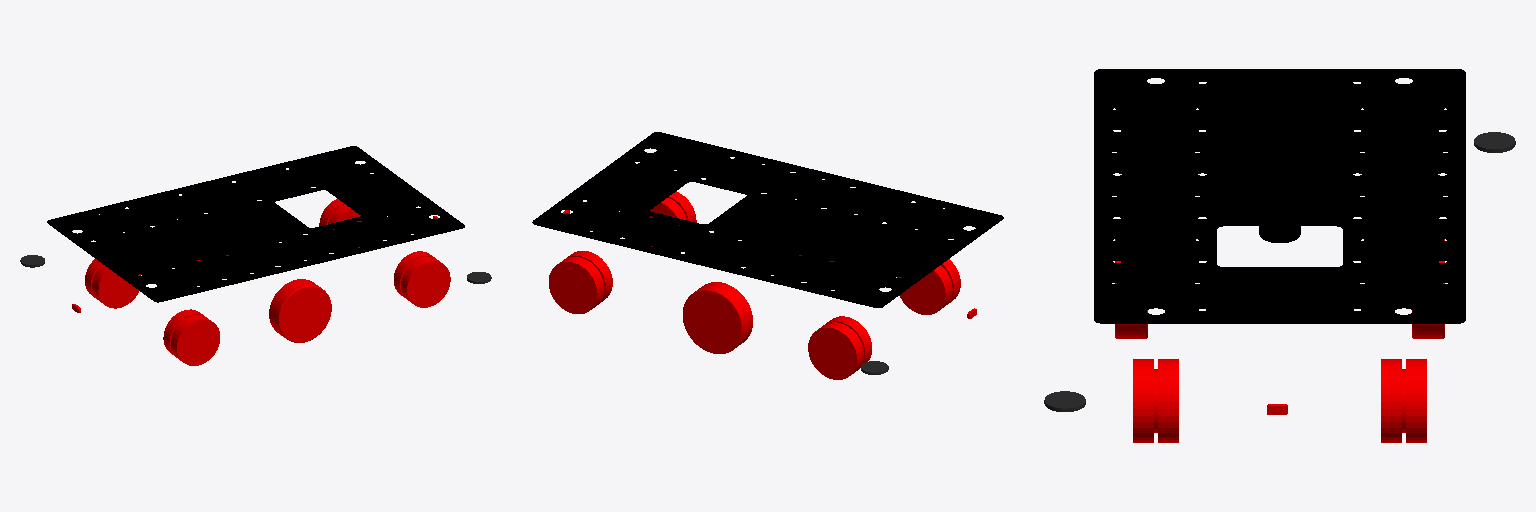
URDF robot description (first_amr_rover):
<?xml version="1.0" encoding="utf-8"?>
<!-- This URDF was automatically created by SolidWorks to URDF Exporter! Originally created by Stephen Brawner (brawner@gmail.com) 
     Commit Version: 1.6.0-4-g7f85cfe  Build Version: 1.6.7995.38578
     For more information, please see http://wiki.ros.org/sw_urdf_exporter -->
<robot
  name="first_amr_rover">
  <link
    name="base_link">
    <inertial>
      <origin
        xyz="-0.012052 -0.00050488 0.19209"
        rpy="0 0 0" />
      <mass
        value="450" />
      <inertia
        ixx="30.383"
        ixy="0.028587"
        ixz="0.26132"
        iyy="69.029"
        iyz="0.00034937"
        izz="94.499" />
    </inertial>
    <visual>
      <origin
        xyz="0 0 0"
        rpy="0 0 0" />
      <geometry>
        <mesh
          filename="package://first_amr_rover/meshes/base_link.STL" />
      </geometry>
      <material
        name="">
        <color
          rgba="0.25098 0.25098 0.25098 1" />
      </material>
    </visual>
    <collision>
      <origin
        xyz="0 0 0"
        rpy="0 0 0" />
      <geometry>
        <mesh
          filename="package://first_amr_rover/meshes/base_link.STL" />
      </geometry>
    </collision>
  </link>
  <link
    name="left_wheel_link">
    <inertial>
      <origin
        xyz="-3.9517E-15 -0.595 -1.5266E-16"
        rpy="0 0 0" />
      <mass
        value="30.589" />
      <inertia
        ixx="0.1356"
        ixy="7.1855E-16"
        ixz="-1.9228E-31"
        iyy="0.23866"
        iyz="3.2793E-32"
        izz="0.1356" />
    </inertial>
    <visual>
      <origin
        xyz="0 0 0"
        rpy="0 0 0" />
      <geometry>
        <mesh
          filename="package://first_amr_rover/meshes/left_wheel_link.STL" />
      </geometry>
      <material
        name="">
        <color
          rgba="1 0 0 1" />
      </material>
    </visual>
    <collision>
      <origin
        xyz="0 0 0"
        rpy="0 0 0" />
      <geometry>
        <mesh
          filename="package://first_amr_rover/meshes/left_wheel_link.STL" />
      </geometry>
    </collision>
  </link>
  <joint
    name="left_wheel_joint"
    type="continuous">
    <origin
      xyz="0 0.2355 0.13"
      rpy="0 0 0" />
    <parent
      link="base_link" />
    <child
      link="left_wheel_link" />
    <axis
      xyz="0 1 0" />
    <limit
      effort="300"
      velocity="10" />
    <dynamics
      damping="0.5"
      friction="0.05" />
  </joint>
  <link
    name="right_wheel_link">
    <inertial>
      <origin
        xyz="-1.5023E-15 0.124 -1.5266E-16"
        rpy="0 0 0" />
      <mass
        value="30.589" />
      <inertia
        ixx="0.1356"
        ixy="5.6286E-18"
        ixz="-1.9228E-31"
        iyy="0.23866"
        iyz="-3.2449E-32"
        izz="0.1356" />
    </inertial>
    <visual>
      <origin
        xyz="0 0 0"
        rpy="0 0 0" />
      <geometry>
        <mesh
          filename="package://first_amr_rover/meshes/right_wheel_link.STL" />
      </geometry>
      <material
        name="">
        <color
          rgba="1 0 0 1" />
      </material>
    </visual>
    <collision>
      <origin
        xyz="0 0 0"
        rpy="0 0 0" />
      <geometry>
        <mesh
          filename="package://first_amr_rover/meshes/right_wheel_link.STL" />
      </geometry>
    </collision>
  </link>
  <joint
    name="right_wheel_joint"
    type="continuous">
    <origin
      xyz="0 0.2355 0.13"
      rpy="0 0 0" />
    <parent
      link="base_link" />
    <child
      link="right_wheel_link" />
    <axis
      xyz="0 1 0" />
    <limit
      effort="300"
      velocity="10" />
    <dynamics
      damping="0.5"
      friction="0.05" />
  </joint>
  <link
    name="front_left_support_wheel_link">
    <inertial>
      <origin
        xyz="-3.7748E-15 -0.53601 -3.5527E-15"
        rpy="0 0 0" />
      <mass
        value="26.733" />
      <inertia
        ixx="0.095433"
        ixy="2.6598E-16"
        ixz="-3.7979E-34"
        iyy="0.13477"
        iyz="1.5077E-34"
        izz="0.095433" />
    </inertial>
    <visual>
      <origin
        xyz="0 0 0"
        rpy="0 0 0" />
      <geometry>
        <mesh
          filename="package://first_amr_rover/meshes/front_left_support_wheel_link.STL" />
      </geometry>
      <material
        name="">
        <color
          rgba="1 0 0 1" />
      </material>
    </visual>
    <collision>
      <origin
        xyz="0 0 0"
        rpy="0 0 0" />
      <geometry>
        <mesh
          filename="package://first_amr_rover/meshes/front_left_support_wheel_link.STL" />
      </geometry>
    </collision>
  </link>
  <joint
    name="front_left_support_wheel_joint"
    type="continuous">
    <origin
      xyz="0.60236 0.2355 0.10662"
      rpy="0 0 0" />
    <parent
      link="base_link" />
    <child
      link="front_left_support_wheel_link" />
    <axis
      xyz="0 1 0" />
    <limit
      effort="0.1"
      velocity="15" />
    <dynamics
      damping="0.1"
      friction="0.01" />
  </joint>
  <link
    name="back_left_support_wheel_link">
    <inertial>
      <origin
        xyz="-3.6637E-15 -0.55321 2.4147E-15"
        rpy="0 0 0" />
      <mass
        value="26.733" />
      <inertia
        ixx="0.095433"
        ixy="2.7533E-16"
        ixz="-3.7979E-34"
        iyy="0.13477"
        iyz="1.5077E-34"
        izz="0.095433" />
    </inertial>
    <visual>
      <origin
        xyz="0 0 0"
        rpy="0 0 0" />
      <geometry>
        <mesh
          filename="package://first_amr_rover/meshes/back_left_support_wheel_link.STL" />
      </geometry>
      <material
        name="">
        <color
          rgba="1 0 0 1" />
      </material>
    </visual>
    <collision>
      <origin
        xyz="0 0 0"
        rpy="0 0 0" />
      <geometry>
        <mesh
          filename="package://first_amr_rover/meshes/back_left_support_wheel_link.STL" />
      </geometry>
    </collision>
  </link>
  <joint
    name="back_left_support_wheel_joint"
    type="continuous">
    <origin
      xyz="-0.48261 0.2355 0.1066"
      rpy="0 0 0" />
    <parent
      link="base_link" />
    <child
      link="back_left_support_wheel_link" />
    <axis
      xyz="0 1 0" />
    <limit
      effort="0.1"
      velocity="15" />
    <dynamics
      damping="0.1"
      friction="0.01" />
  </joint>
  <link
    name="front_right_support_wheel_link">
    <inertial>
      <origin
        xyz="-1.7764E-15 0.065 -3.525E-15"
        rpy="0 0 0" />
      <mass
        value="26.733" />
      <inertia
        ixx="0.095433"
        ixy="1.1792E-17"
        ixz="-3.7979E-34"
        iyy="0.13477"
        iyz="1.5077E-34"
        izz="0.095433" />
    </inertial>
    <visual>
      <origin
        xyz="0 0 0"
        rpy="0 0 0" />
      <geometry>
        <mesh
          filename="package://first_amr_rover/meshes/front_right_support_wheel_link.STL" />
      </geometry>
      <material
        name="">
        <color
          rgba="1 0 0 1" />
      </material>
    </visual>
    <collision>
      <origin
        xyz="0 0 0"
        rpy="0 0 0" />
      <geometry>
        <mesh
          filename="package://first_amr_rover/meshes/front_right_support_wheel_link.STL" />
      </geometry>
    </collision>
  </link>
  <joint
    name="front_right_support_wheel_joint"
    type="continuous">
    <origin
      xyz="0.60236 0.2355 0.10662"
      rpy="0 0 0" />
    <parent
      link="base_link" />
    <child
      link="front_right_support_wheel_link" />
    <axis
      xyz="0 1 0" />
    <limit
      effort="0.1"
      velocity="15" />
    <dynamics
      damping="0.1"
      friction="0.01" />
  </joint>
  <link
    name="back_right_support_wheel_link">
    <inertial>
      <origin
        xyz="-1.6098E-15 0.0822 2.4147E-15"
        rpy="0 0 0" />
      <mass
        value="26.733" />
      <inertia
        ixx="0.095433"
        ixy="2.4636E-18"
        ixz="-3.7979E-34"
        iyy="0.13477"
        iyz="1.5077E-34"
        izz="0.095433" />
    </inertial>
    <visual>
      <origin
        xyz="0 0 0"
        rpy="0 0 0" />
      <geometry>
        <mesh
          filename="package://first_amr_rover/meshes/back_right_support_wheel_link.STL" />
      </geometry>
      <material
        name="">
        <color
          rgba="1 0 0 1" />
      </material>
    </visual>
    <collision>
      <origin
        xyz="0 0 0"
        rpy="0 0 0" />
      <geometry>
        <mesh
          filename="package://first_amr_rover/meshes/back_right_support_wheel_link.STL" />
      </geometry>
    </collision>
  </link>
  <joint
    name="back_right_support_wheel_joint"
    type="continuous">
    <origin
      xyz="-0.48261 0.2355 0.1066"
      rpy="0 0 0" />
    <parent
      link="base_link" />
    <child
      link="back_right_support_wheel_link" />
    <axis
      xyz="0 1 0" />
    <limit
      effort="0.1"
      velocity="15" />
    <dynamics
      damping="0.1"
      friction="0.01" />
  </joint>
  <link
    name="lift_surface_link">
    <inertial>
      <origin
        xyz="-0.01558 -2.3302E-09 0.070184"
        rpy="0 0 0" />
      <mass
        value="14.131" />
      <inertia
        ixx="0.94413"
        ixy="2.9059E-07"
        ixz="0.0006529"
        iyy="2.3879"
        iyz="-1.1896E-11"
        izz="3.3269" />
    </inertial>
    <visual>
      <origin
        xyz="0 0 0"
        rpy="0 0 0" />
      <geometry>
        <mesh
          filename="package://first_amr_rover/meshes/lift_surface_link.STL" />
      </geometry>
      <material
        name="">
        <color
          rgba="0 0 0 1" />
      </material>
    </visual>
    <collision>
      <origin
        xyz="0 0 0"
        rpy="0 0 0" />
      <geometry>
        <mesh
          filename="package://first_amr_rover/meshes/lift_surface_link.STL" />
      </geometry>
    </collision>
  </link>
  <joint
    name="lift_surface_joint"
    type="prismatic">
    <origin
      xyz="0 0 0.2966"
      rpy="0 0 0" />
    <parent
      link="base_link" />
    <child
      link="lift_surface_link" />
    <axis
      xyz="0 0 1" />
    <limit
      lower="0"
      upper="0.5"
      effort="1000"
      velocity="0.5" />
    <dynamics
      damping="0.5"
      friction="0.01" />
  </joint>
  <link
    name="front_camera_link">
    <inertial>
      <origin
        xyz="0.84204 -0.0064789 0.1955"
        rpy="0 0 0" />
      <mass
        value="0.095826" />
      <inertia
        ixx="2.4216E-05"
        ixy="6.1828E-22"
        ixz="9.3716E-23"
        iyy="5.6583E-06"
        iyz="2.3187E-21"
        izz="2.0155E-05" />
    </inertial>
    <visual>
      <origin
        xyz="0 0 0"
        rpy="0 0 0" />
      <geometry>
        <mesh
          filename="package://first_amr_rover/meshes/front_camera_link.STL" />
      </geometry>
      <material
        name="">
        <color
          rgba="1 0 0 1" />
      </material>
    </visual>
    <collision>
      <origin
        xyz="0 0 0"
        rpy="0 0 0" />
      <geometry>
        <mesh
          filename="package://first_amr_rover/meshes/front_camera_link.STL" />
      </geometry>
    </collision>
  </link>
  <joint
    name="front_camera_joint"
    type="fixed">
    <origin
      xyz="0 0 0"
      rpy="0 0 0" />
    <parent
      link="base_link" />
    <child
      link="front_camera_link" />
    <axis
      xyz="0 0 0" />
    <limit
      lower="0"
      upper="0"
      effort="0"
      velocity="0" />
  </joint>
  <link
    name="back_camera_link">
    <inertial>
      <origin
        xyz="-0.84204 -0.0064789 0.1955"
        rpy="0 0 0" />
      <mass
        value="0.095826" />
      <inertia
        ixx="2.4216E-05"
        ixy="6.1828E-22"
        ixz="9.3716E-23"
        iyy="5.6583E-06"
        iyz="2.3187E-21"
        izz="2.0155E-05" />
    </inertial>
    <visual>
      <origin
        xyz="0 0 0"
        rpy="0 0 0" />
      <geometry>
        <mesh
          filename="package://first_amr_rover/meshes/back_camera_link.STL" />
      </geometry>
      <material
        name="">
        <color
          rgba="1 0 0 1" />
      </material>
    </visual>
    <collision>
      <origin
        xyz="0 0 0"
        rpy="0 0 0" />
      <geometry>
        <mesh
          filename="package://first_amr_rover/meshes/back_camera_link.STL" />
      </geometry>
    </collision>
  </link>
  <joint
    name="back_camera_joint"
    type="fixed">
    <origin
      xyz="0 0 0"
      rpy="0 0 0" />
    <parent
      link="base_link" />
    <child
      link="back_camera_link" />
    <axis
      xyz="0 0 0" />
    <limit
      lower="0"
      upper="0"
      effort="0"
      velocity="0" />
  
  </joint>


  
  <link
    name="front_lidar_link">
 <inertial>
    <origin xyz="0 0 0" rpy="0 0 0"/>
    <mass value="0.6"/>
    <inertia 
      ixx="0.0005"
      ixy="0.0"
      ixz="0.0"
      iyy="0.0005"
      iyz="0.0"
      izz="0.0003"/>
  </inertial>

  <!-- Görsel -->
  <visual>
    <origin xyz="0 0 0.005" rpy="0 0 0"/>
    <geometry>
      <cylinder radius="0.05" length="0.01"/>
    </geometry>
    <material name="gray">
      <color rgba="0.2 0.2 0.2 1"/>
    </material>
  </visual>

  <!-- Çarpışma -->
  <collision>
    <origin xyz="0 0 0.005" rpy="0 0 0"/>
    <geometry>
      <cylinder radius="0.05" length="0.01"/>
    </geometry>
  </collision>

  </link>
  <joint name="front_lidar_joint" type="fixed">
  <origin xyz="0.742 -0.52 0.165" rpy="0 0 0"/>
  <parent link="base_link"/>
  <child link="front_lidar_link"/>
</joint>
  <link name="back_lidar_link">

  <inertial>
    <origin xyz="0 0 0" rpy="0 0 0"/>
    <mass value="0.6"/>
    <inertia 
      ixx="0.0005"
      ixy="0.0"
      ixz="0.0"
      iyy="0.0005"
      iyz="0.0"
      izz="0.0003"/>
  </inertial>

  <!-- Görsel -->
  <visual>
    <origin xyz="0 0 0.005" rpy="0 0 0"/>
    <geometry>
      <cylinder radius="0.05" length="0.01"/>
    </geometry>
    <material name="gray">
      <color rgba="0.2 0.2 0.2 1"/>
    </material>
  </visual>

  <!-- Çarpışma -->
  <collision>
    <origin xyz="0 0 0.005" rpy="0 0 0"/>
    <geometry>
      <cylinder radius="0.05" length="0.01"/>
    </geometry>
  </collision>

</link>
  <joint name="back_lidar_joint" type="fixed">
  <origin xyz="-0.742 0.52 0.165" rpy="0 0 3.1415"/>
  <parent link="base_link"/>
  <child link="back_lidar_link"/>
</joint>
  <link
    name="imu_link">
    <inertial>
      <origin
        xyz="0 -8.6736E-19 0.28"
        rpy="0 0 0" />
      <mass
        value="0.024504" />
      <inertia
        ixx="8.1681E-07"
        ixy="7.9917E-39"
        ixz="-1.1341E-38"
        iyy="8.1681E-07"
        iyz="-1.1192E-38"
        izz="1.2252E-06" />
    </inertial>
    <visual>
      <origin
        xyz="0 0 0"
        rpy="0 0 0" />
      <geometry>
        <mesh
          filename="package://first_amr_rover/meshes/imu_link.STL" />
      </geometry>
      <material
        name="">
        <color
          rgba="0.75294 0.75294 0.75294 1" />
      </material>
    </visual>
    <collision>
      <origin
        xyz="0 0 0"
        rpy="0 0 0" />
      <geometry>
        <mesh
          filename="package://first_amr_rover/meshes/imu_link.STL" />
      </geometry>
    </collision>
  </link>
  <joint
    name="imu_joint"
    type="fixed">
    <origin
      xyz="0 0 0"
      rpy="0 0 0" />
    <parent
      link="base_link" />
    <child
      link="imu_link" />
    <axis
      xyz="0 0 0" />
  </joint>


<gazebo reference="base_link">
    <mu1>0.5</mu1>
    <mu2>0.5</mu2>
    <!-- <kp>5000000.0</kp>
    <kd>10.0</kd>
    <minDepth>0.001</minDepth>
    <maxVel>0.1</maxVel>
    <fdir1>1 0 0</fdir1>
    <selfCollide>false</selfCollide> -->
    <material>Gazebo/Red</material>
  </gazebo>

  <gazebo reference="right_wheel_link">
    <mu1>5.0</mu1>
    <mu2>5.0</mu2>
    <!-- <kp>5000000.0</kp>
    <kd>10.0</kd>
    <minDepth>0.001</minDepth>
    <maxVel>0.1</maxVel>
    <fdir1>1 0 0</fdir1>
    <selfCollide>false</selfCollide> -->
    <material>Gazebo/Gray</material>
  </gazebo>

  <gazebo reference="left_wheel_link">
    <mu1>5.0</mu1>
    <mu2>5.0</mu2>
    <!-- <kp>5000000.0</kp>
    <kd>10.0</kd>
    <minDepth>0.001</minDepth>
    <maxVel>0.1</maxVel>
    <fdir1>1 0 0</fdir1>
    <selfCollide>false</selfCollide> -->
    <material>Gazebo/Gray</material>
  </gazebo>

  <gazebo reference="front_left_support_wheel_link">
    <mu1>0.01</mu1>
    <mu2>0.01</mu2>
    <!-- <kp>5000000.0</kp>
    <kd>10.0</kd>
    <minDepth>0.001</minDepth>
    <maxVel>0.1</maxVel>
    <fdir1>1 0 0</fdir1>
    <selfCollide>false</selfCollide> -->
    <material>Gazebo/Gray</material>
  </gazebo>

  <gazebo reference="back_left_support_wheel_link">
    <mu1>0.01</mu1>
    <mu2>0.01</mu2>
    <!-- <kp>5000000.0</kp>
    <kd>10.0</kd>
    <minDepth>0.001</minDepth>
    <maxVel>0.1</maxVel>
    <fdir1>1 0 0</fdir1>
    <selfCollide>false</selfCollide> -->
    <material>Gazebo/Gray</material>
  </gazebo>

  <gazebo reference="front_right_support_wheel_link">
    <mu1>0.01</mu1>
    <mu2>0.01</mu2>
    <!-- <kp>5000000.0</kp>
    <kd>10.0</kd>
    <minDepth>0.001</minDepth>
    <maxVel>0.1</maxVel>
    <fdir1>1 0 0</fdir1>
    <selfCollide>false</selfCollide> -->
    <material>Gazebo/Gray</material>
  </gazebo>

  <gazebo reference="back_right_support_wheel_link">
    <mu1>0.01</mu1>
    <mu2>0.01</mu2>
    <!-- <kp>5000000.0</kp>
    <kd>10.0</kd>
    <minDepth>0.001</minDepth>
    <maxVel>0.1</maxVel>
    <fdir1>1 0 0</fdir1>
    <selfCollide>false</selfCollide> -->
    <material>Gazebo/Gray</material>
  </gazebo>



  <!-- Diff Drive Controller -->
  <gazebo>
    <plugin name="amr_controller" filename="libgazebo_ros_diff_drive.so">
      <commandTopic>cmd_vel</commandTopic>
      <odometryTopic>odom</odometryTopic>
      <odometryFrame>odom</odometryFrame>
      <odometrySource>world</odometrySource>
      <publishOdomTF>true</publishOdomTF>
      <robotBaseFrame>base_link</robotBaseFrame>
      <publishWheelTF>false</publishWheelTF>
      <publishTf>true</publishTf>
      <publishWheelJointState>true</publishWheelJointState>
      <legacyMode>false</legacyMode>
      <updateRate>20</updateRate>
      <leftJoint>right_wheel_joint</leftJoint>

      <rightJoint>left_wheel_joint</rightJoint>

      <wheelSeparation>0.703</wheelSeparation>
      <wheelDiameter>0.5</wheelDiameter>
      <wheelAcceleration>0.35</wheelAcceleration>
      <wheelTorque>200</wheelTorque>
      <rosDebugLevel>na</rosDebugLevel>
      <cmd_vel_timeout>0.27</cmd_vel_timeout>
    </plugin>
  </gazebo>


  <gazebo reference="front_lidar_link">
    <sensor type="ray" name="front_laser_sensor">
     <pose>0 0 0 0 0 0</pose>
      <visualize>true</visualize>
      <update_rate>10</update_rate>
      <ray>   
        <scan>
          <horizontal>
            <samples>720</samples>
            <resolution>1</resolution>
            <min_angle>-3.1415</min_angle>
            <max_angle>1.570796</max_angle>
          </horizontal>
        </scan>
        <range>
          <min>0.1</min>
          <max>10.0</max>
          <resolution>0.01</resolution>
        </range>
        <noise>
          <type>gaussian</type>
          <mean>0.0</mean>
          <stddev>0.01</stddev>
        </noise>
      </ray>
      <plugin name="gazebo_ros_laser_controller" filename="libgazebo_ros_laser.so">
        <topicName>/scan0</topicName>
        <frameName>front_lidar_link</frameName>
      </plugin>
    </sensor>
  </gazebo>

  <gazebo reference="back_lidar_link">
    <sensor type="ray" name="back_laser_sensor">
      <pose>0 0 0 0 0 0</pose>
      <visualize>true</visualize>
      <update_rate>10</update_rate>
      <ray>
        <scan>
          <horizontal>
            <samples>720</samples>
            <resolution>1</resolution>

            <min_angle>-3.1415</min_angle>
            <max_angle>1.570796</max_angle>
          </horizontal>
        </scan>
        <range>
          <min>0.1</min>
          <max>10.0</max>
          <resolution>0.01</resolution>
        </range>
        <noise>
          <type>gaussian</type>
          <mean>0.0</mean>
          <stddev>0.01</stddev>
        </noise>
      </ray>
      <plugin name="gazebo_ros_laser_controller" filename="libgazebo_ros_laser.so">
        <topicName>/scan1</topicName>
        <frameName>back_lidar_link</frameName>
      </plugin>
    </sensor>
  </gazebo>






  <!-- Gazebo ROS Control -->

    <!-- mimic gazebo plugin tamimlamasi baslangici -->


      <!-- mimic gazebo plugin tamimlamasi bitisi -->






</robot>

--- Facts derived from the render (not from the file) ---
The picture shows the robot from 3 angles, left to right: view 1: azimuth 30°, elevation 25°; view 2: azimuth 150°, elevation 25°; view 3: azimuth 270°, elevation 25°; orthographic projection.
Robot: first_amr_rover — 13 links, 12 joints (6 continuous, 1 prismatic, 5 fixed); root link base_link; default pose: all joints at 0.
Visible links, largest first — view 1: lift_surface_link, left_wheel_link, front_left_support_wheel_link, back_left_support_wheel_link, back_right_support_wheel_link, front_right_support_wheel_link; view 2: lift_surface_link, right_wheel_link, front_right_support_wheel_link, back_right_support_wheel_link, back_left_support_wheel_link, front_left_support_wheel_link; view 3: lift_surface_link, front_left_support_wheel_link, front_right_support_wheel_link, back_lidar_link, front_lidar_link.
Link boxes in pixels (x1,y1,x2,y2): lift_surface_link: (47, 146, 464, 302); left_wheel_link: (269, 279, 331, 342); front_left_support_wheel_link: (394, 251, 450, 307); back_left_support_wheel_link: (163, 309, 219, 365); back_right_support_wheel_link: (85, 259, 140, 308); front_right_support_wheel_link: (319, 199, 361, 247); lift_surface_link: (532, 132, 1003, 307); right_wheel_link: (683, 282, 752, 353); front_right_support_wheel_link: (549, 251, 612, 313); back_right_support_wheel_link: (808, 316, 871, 379); back_left_support_wheel_link: (897, 259, 960, 314); front_left_support_wheel_link: (649, 191, 696, 246); lift_surface_link: (1094, 69, 1465, 323); front_left_support_wheel_link: (1133, 359, 1178, 442); front_right_support_wheel_link: (1381, 359, 1426, 442); back_lidar_link: (1474, 132, 1515, 152); front_lidar_link: (1044, 391, 1085, 411).
Bounding box of the posed robot: 1.69 × 1.14 × 0.37 m (x, y, z).
10 mesh visuals loaded from 11 distinct referenced files (10 binary STL); not drawn: 1 (reference not matched to a file when rendering).
